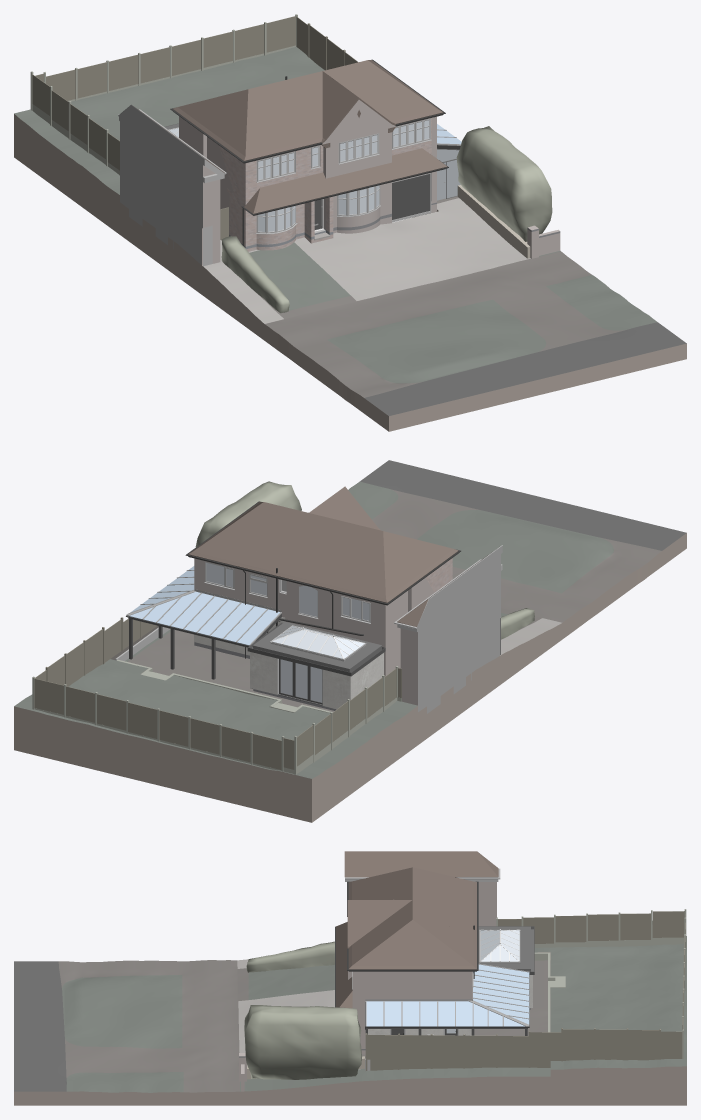
Rendered from TrueVision_-_Testing3D_-_WollatonValeModel.glb.
3 renders of one model, top to bottom at view 1: azimuth 30°, elevation 25°; view 2: azimuth 150°, elevation 25°; view 3: azimuth 270°, elevation 25°, orthographic. The views are drawn at different scales.
Parts seen in each view (by area): view 1: root; view 2: root; view 3: root.
Boxes of the visible parts, <box> form: root: <box>14,14,686,431</box>; root: <box>14,460,686,822</box>; root: <box>14,851,686,1105</box>.
Bounding box in the file's own units: 18.03 × 9.23 × 39.17.
Materials: 48 (6 with a texture image).
